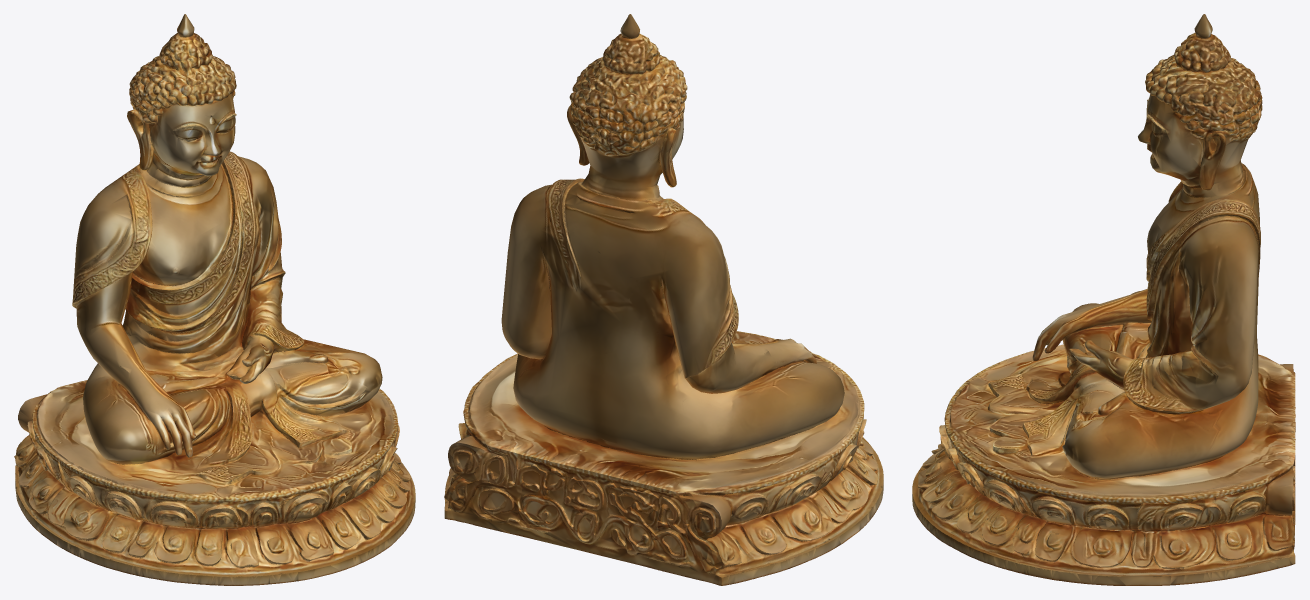
File: golden_buddha_v2_simp_mesh.glb
3 views of the same model, side by side, from view 1: azimuth 30°, elevation 25°; view 2: azimuth 150°, elevation 25°; view 3: azimuth 270°, elevation 25° (orthographic). The views are drawn at different scales.
Visible parts, largest first — view 1: model; view 2: model; view 3: model.
Boxes of the visible parts, x1,y1,x2,y2 form: model: (14, 14, 415, 585); model: (444, 14, 883, 585); model: (912, 14, 1295, 585).
Size of the model in its own units: 1.41 by 1.84 by 1.31.
Materials: 1 (1 with a texture image).
